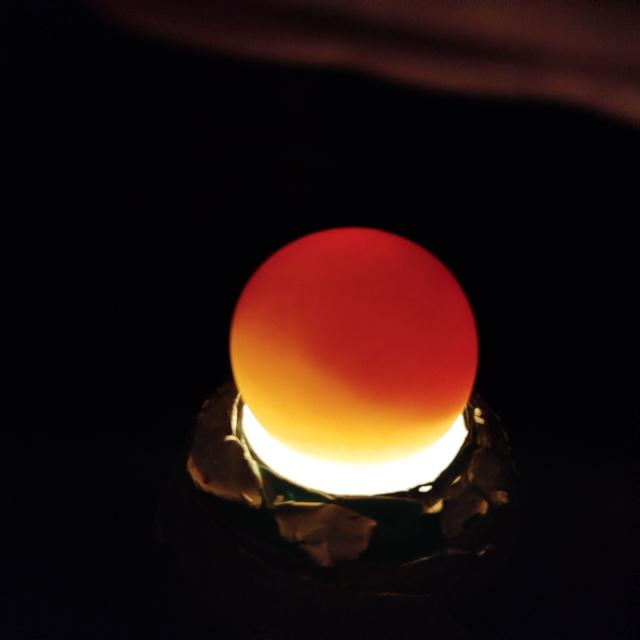Gema Quebrada: (235, 227, 477, 424)
